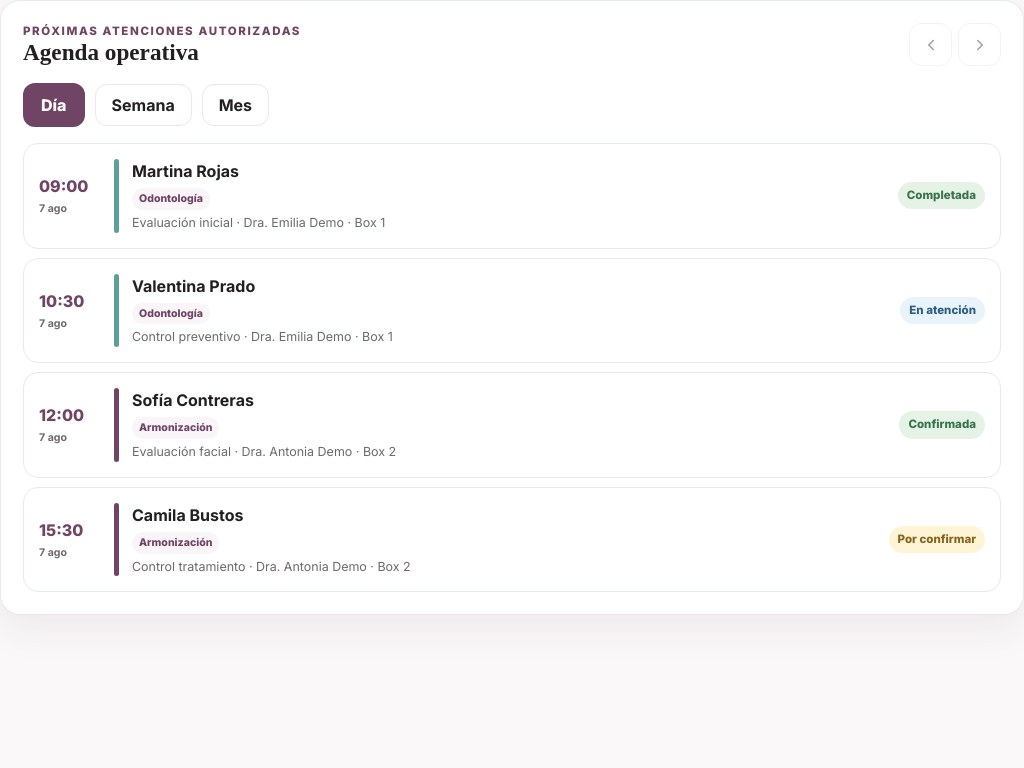
AgendaList › expone y actualiza la vista seleccionada
The image size is (1024, 768).
Step 1. Click the button "Semana" → click(143, 105), box [94,84,192,126]
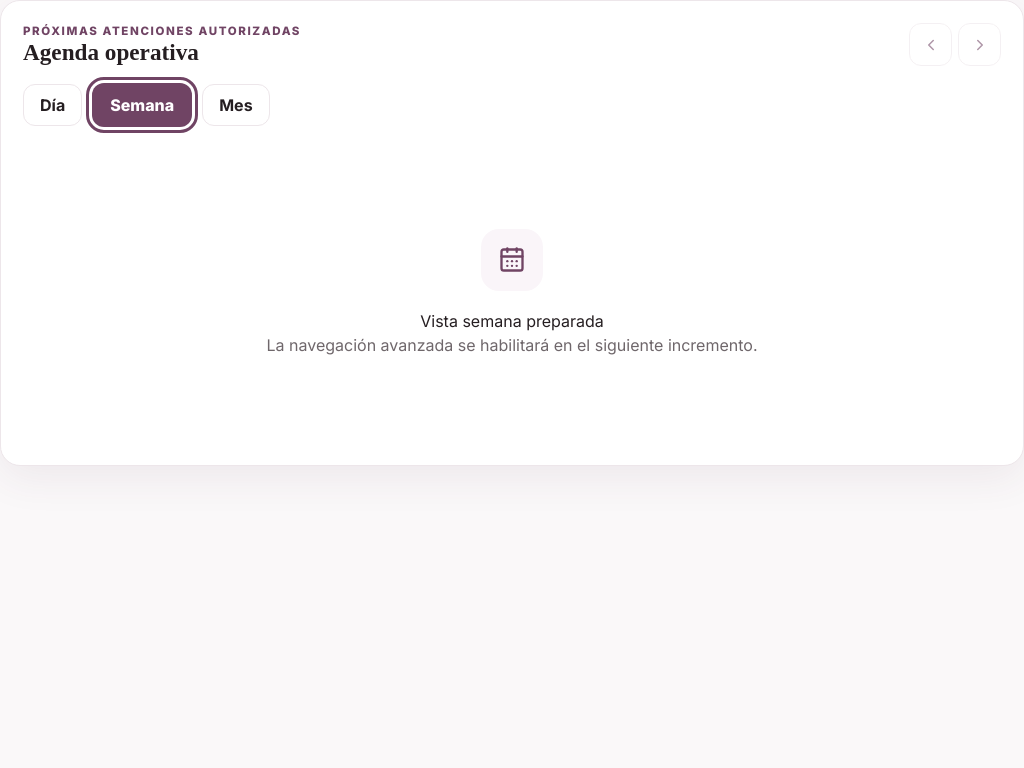
Check: the heading "Vista semana preparada" is shown, box [420,311,604,331]
